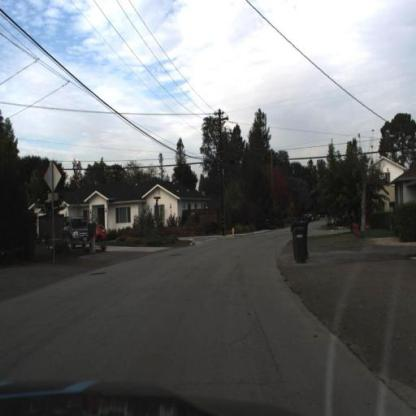car: (64, 216, 85, 247), (93, 221, 110, 242), (95, 223, 107, 244)
